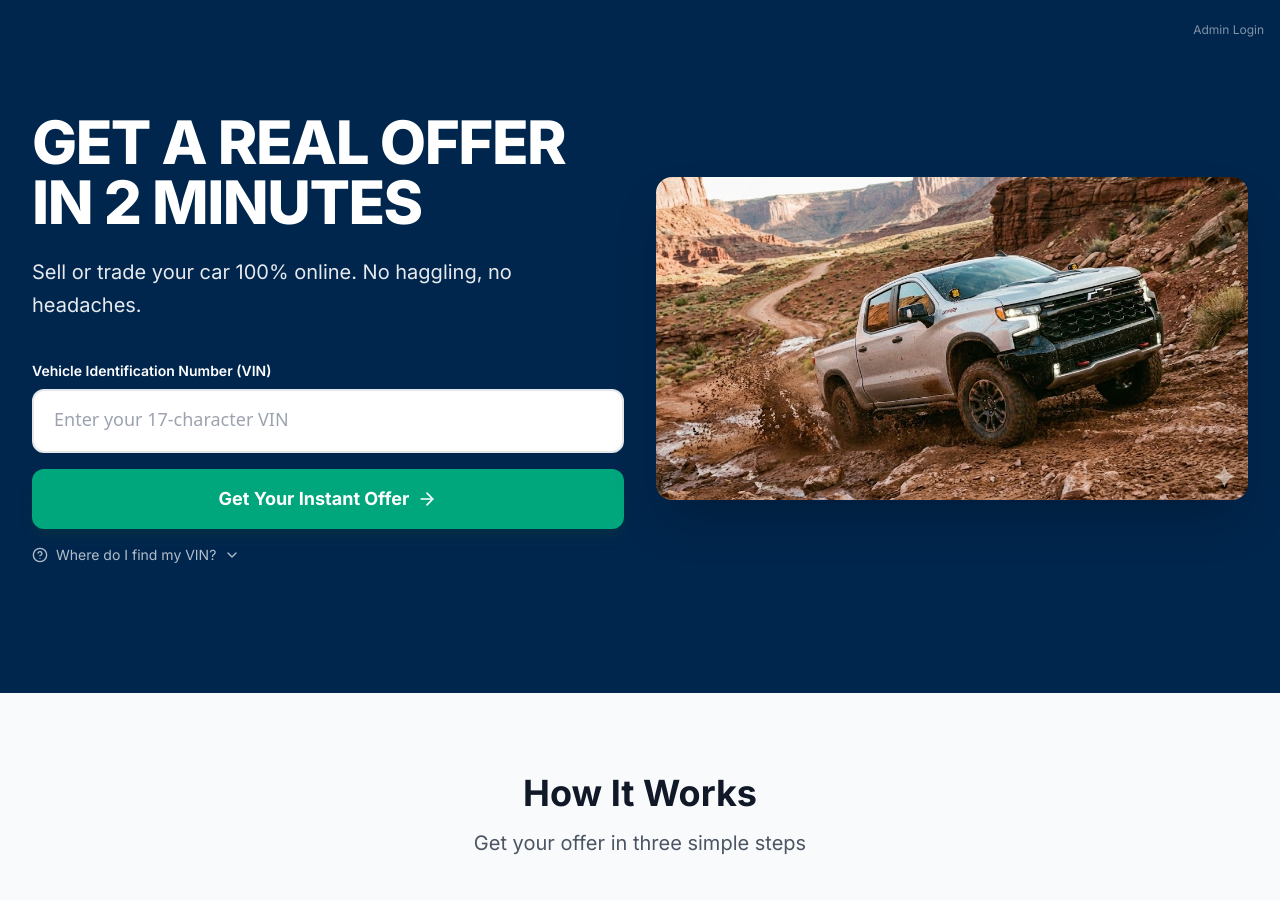
HomePage › VIN input validation › shows error for invalid VIN on submit
Type "INVALID" into the field with placeholder "Enter your 17-character VIN".
click(328, 421); type("INVALID")  # box 32,389 -> 624,453
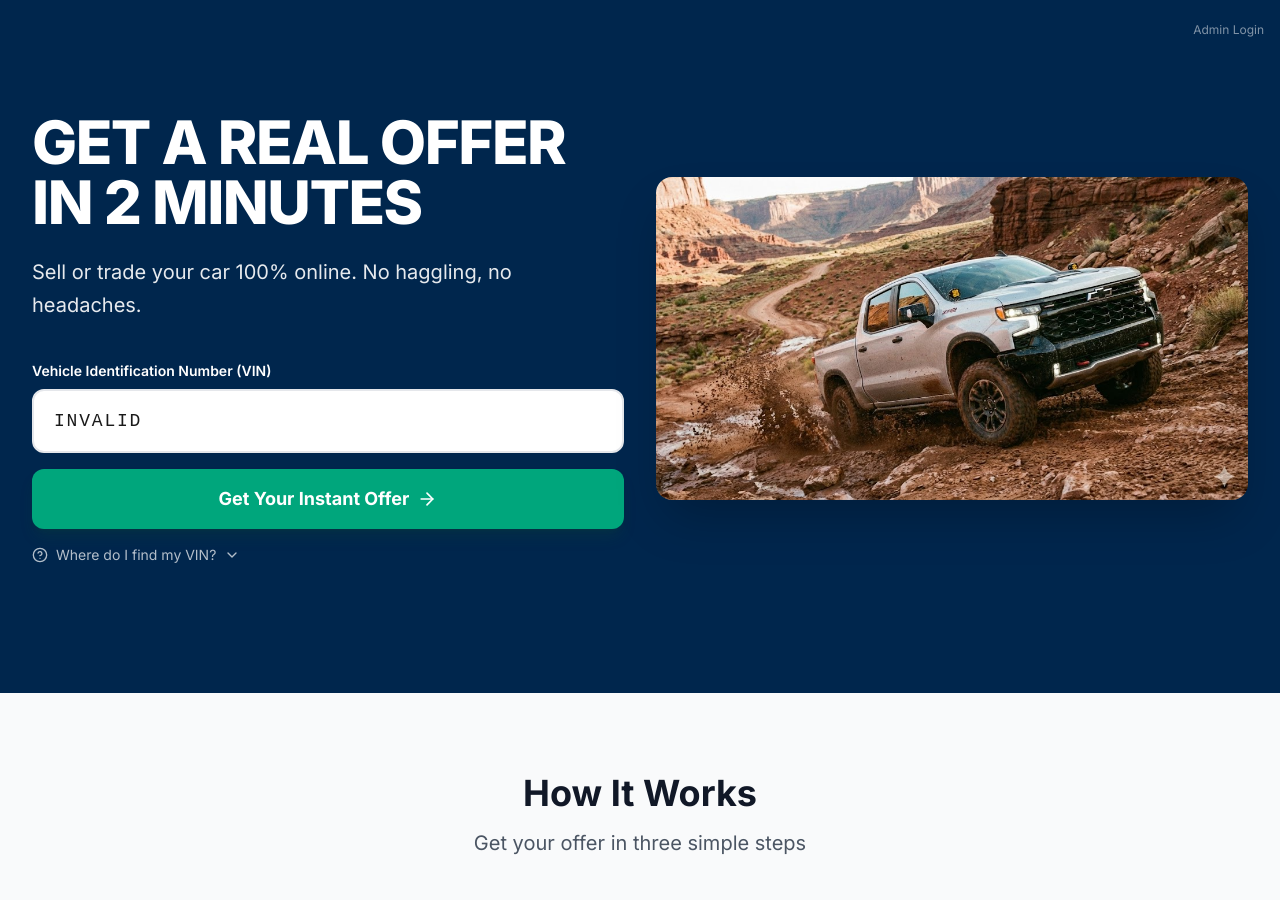
Click the button "Get Your Instant Offer".
click(328, 499)  # box 32,469 -> 624,529
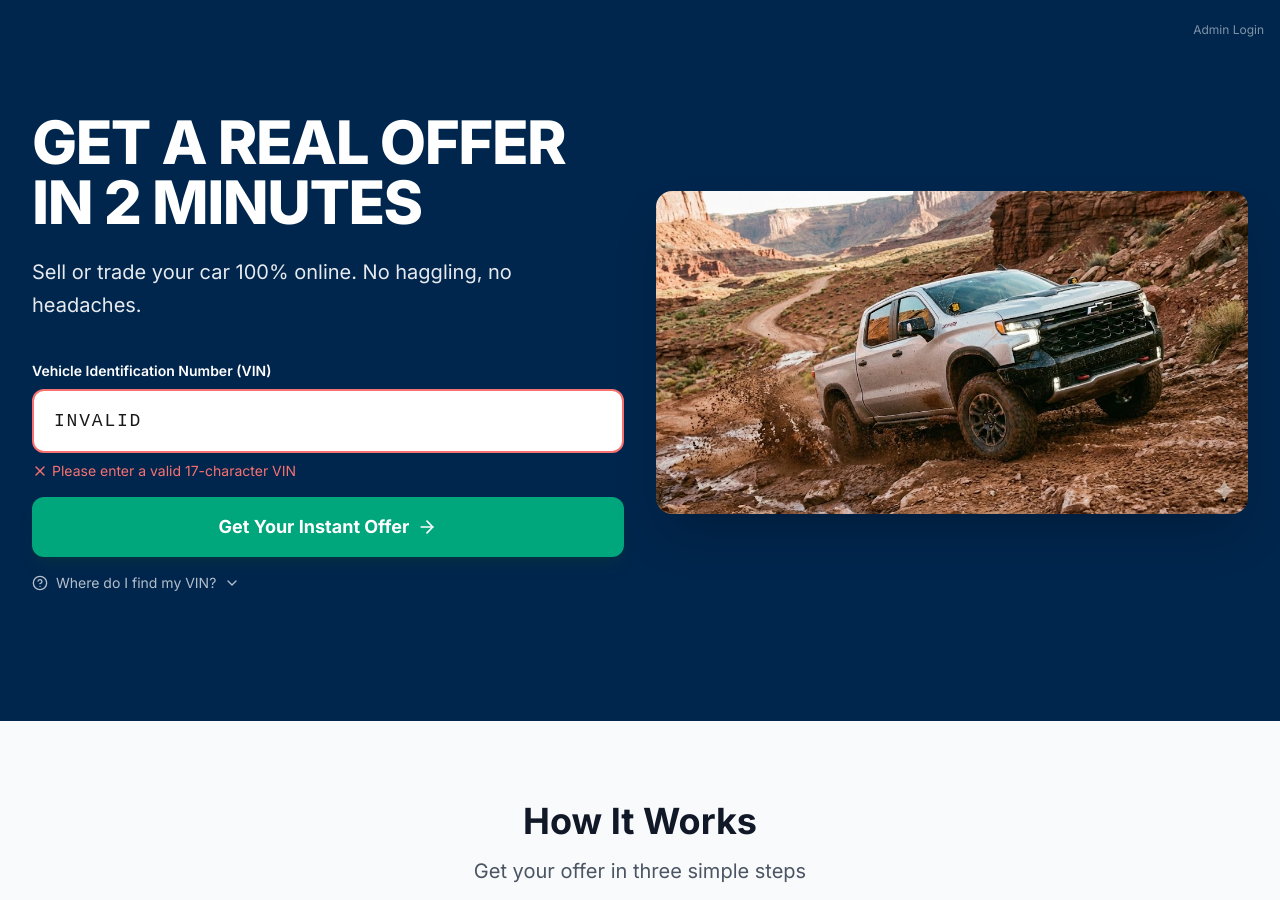
Result: the text "Please enter a valid 17-character VIN" is shown at 32,462 -> 296,479
